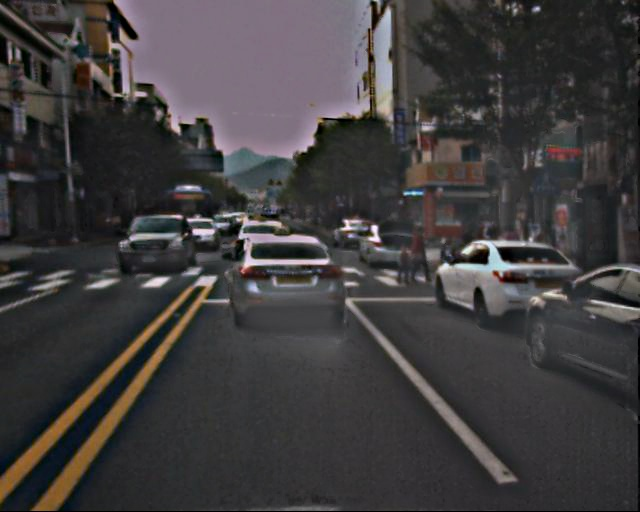person: (409, 226, 433, 285), (393, 240, 412, 286)
